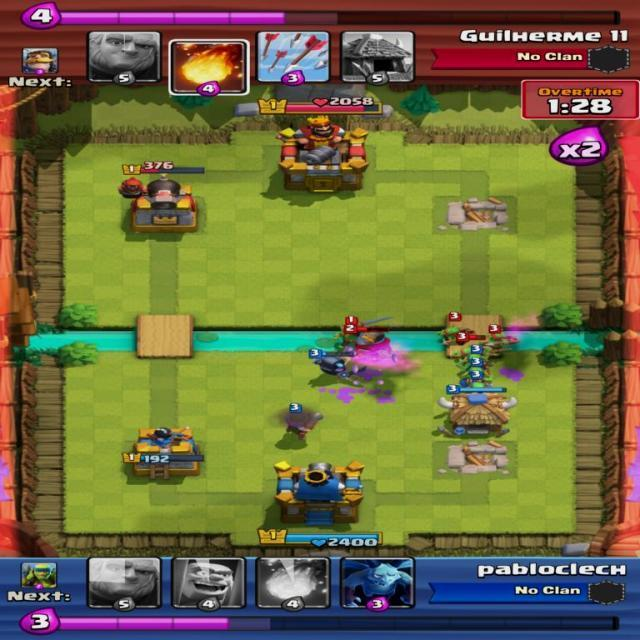ECannoneerTower: (125, 179, 203, 234)
EKingTower: (271, 116, 368, 191)
EKnight: (352, 329, 402, 366)
ESpearGoblin: (436, 313, 476, 343), (485, 327, 518, 358), (460, 342, 471, 360)
OGoblinHut: (446, 386, 517, 438)
OMiniPekka: (307, 351, 368, 384)
OMusk: (279, 401, 327, 443)
OSpearGoblin: (457, 366, 499, 382), (462, 379, 493, 394), (459, 354, 489, 367)
OwnKingTower: (275, 468, 370, 524)
OwnPrincessTower: (129, 427, 201, 476)
TowerDown: (427, 194, 521, 233), (432, 441, 523, 481)
